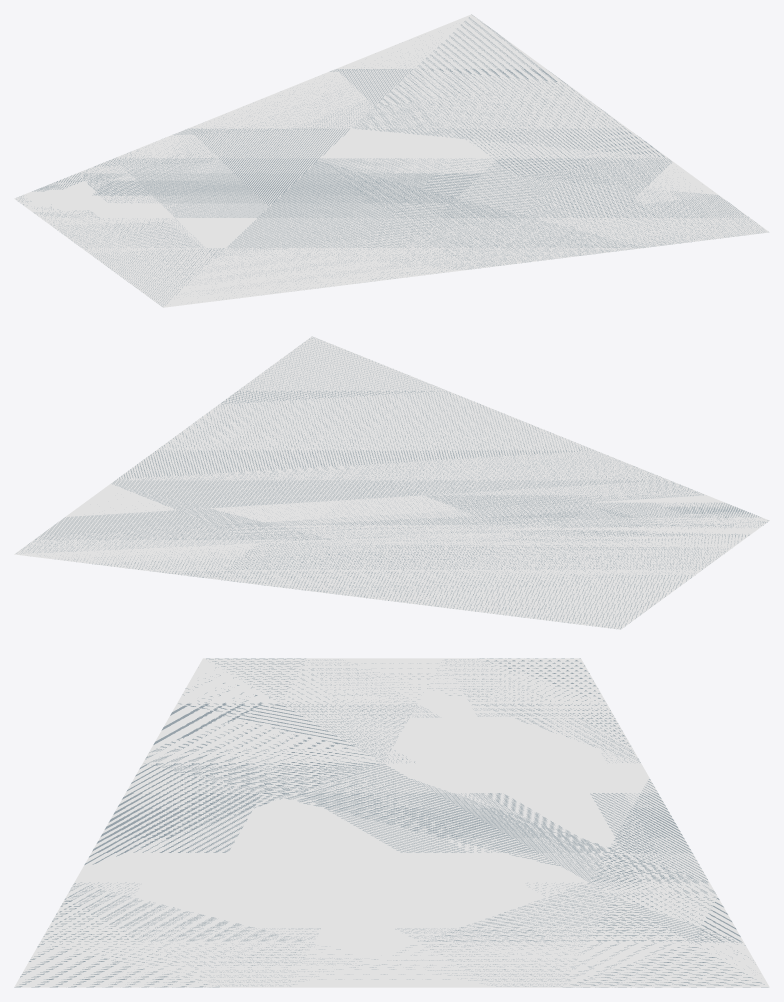
3 views of the same model, one above another, from view 1: azimuth 30°, elevation 25°; view 2: azimuth 150°, elevation 25°; view 3: azimuth 270°, elevation 25° (orthographic). The views are drawn at different scales.
Parts seen in each view (by area): view 1: Group1; view 2: Group1; view 3: Group1.
Part boxes in pixels (x1,y1,x2,y2): Group1: (14, 14, 769, 307); Group1: (14, 336, 769, 629); Group1: (14, 658, 769, 987).
Size of the model in its own units: 4.12 by 0 by 4.
